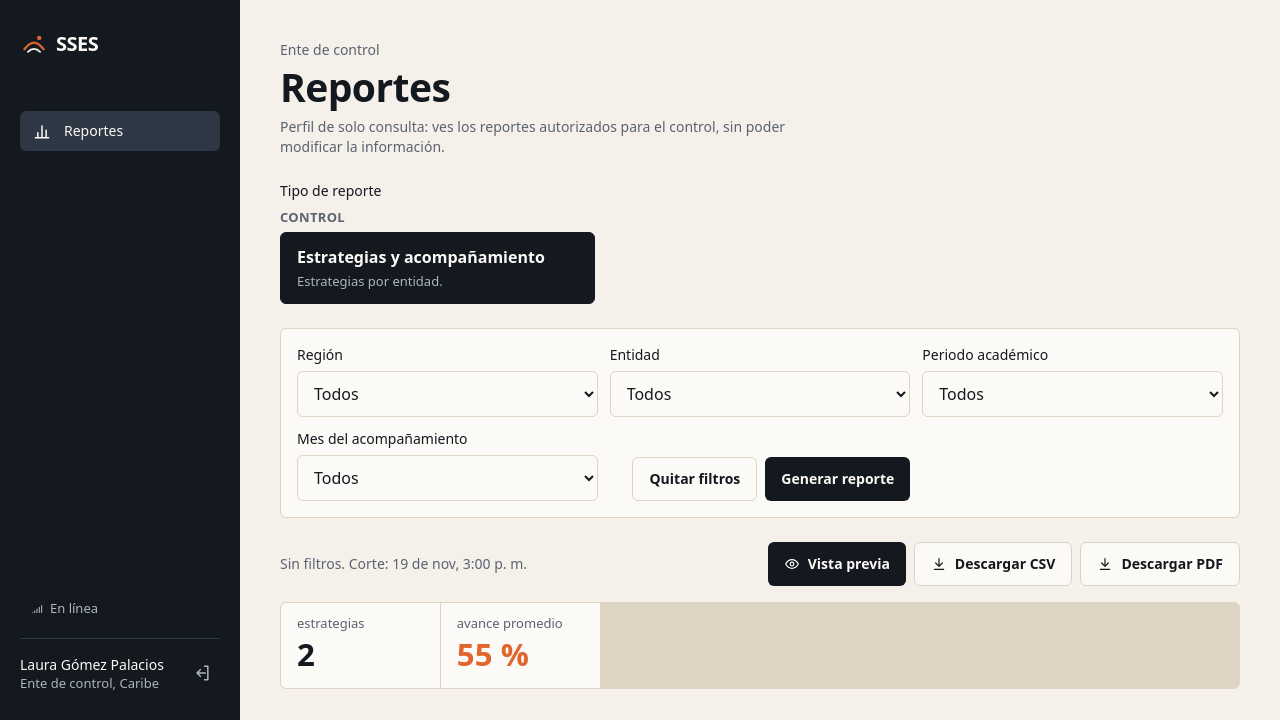
Test: Reportes · CU-05 ente de control › vista previa con el diseño del documento y descarga del PDF registrada
Later steps or results of the test are not shown.
Click the button "Vista previa" at (837, 564), box [768,542,906,586]
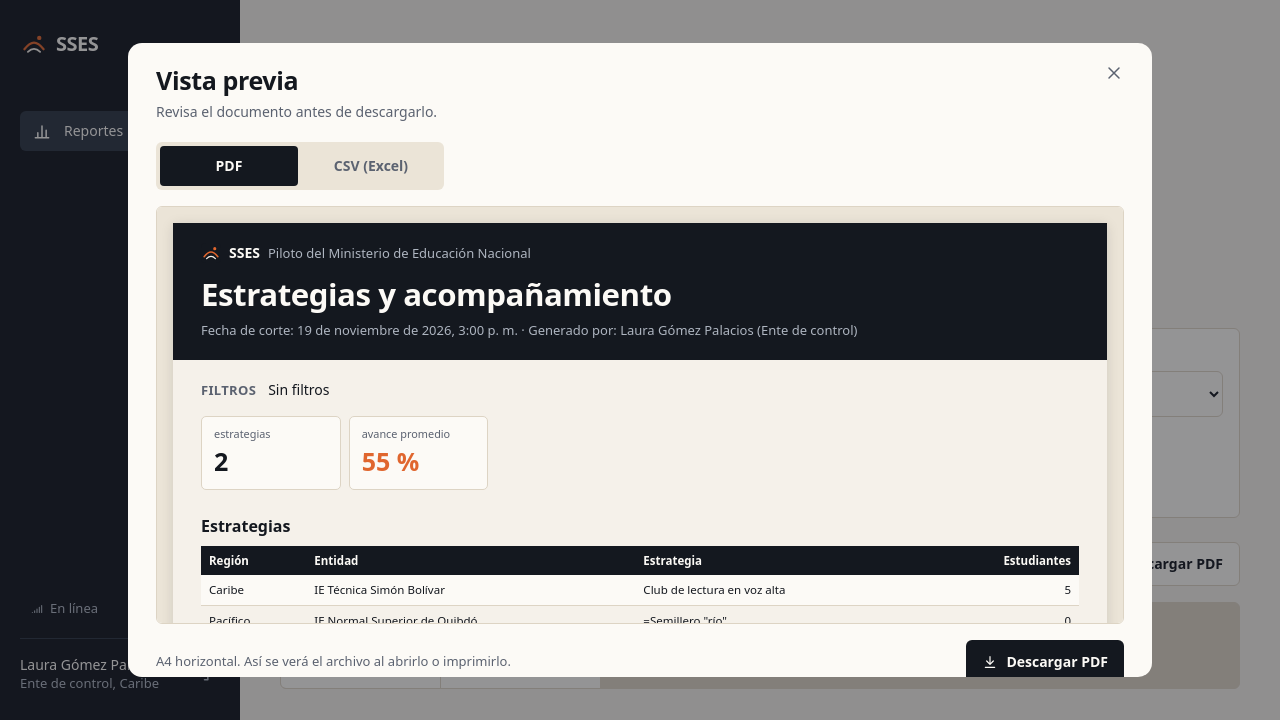
Expected: the heading "Estrategias y acompañamiento" is shown, [201,273,672,315]
Expected: the text "generado por: laura gómez palacios (ente de control)" is shown, [201,321,858,339]
Click the tab "CSV (Excel)" at (371, 166), box [302,146,440,186]
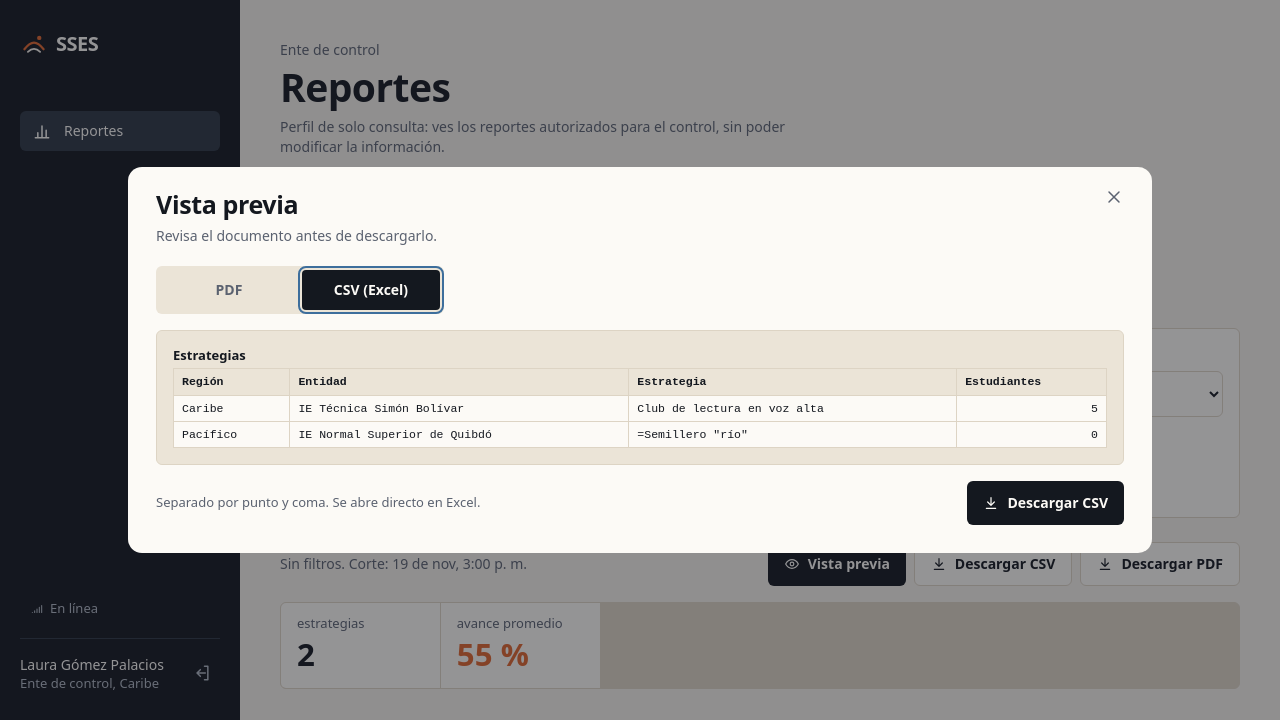
Expected: the element named "vista previa del csv" shows "=Semillero \"río\"", [637,428,748,441]
